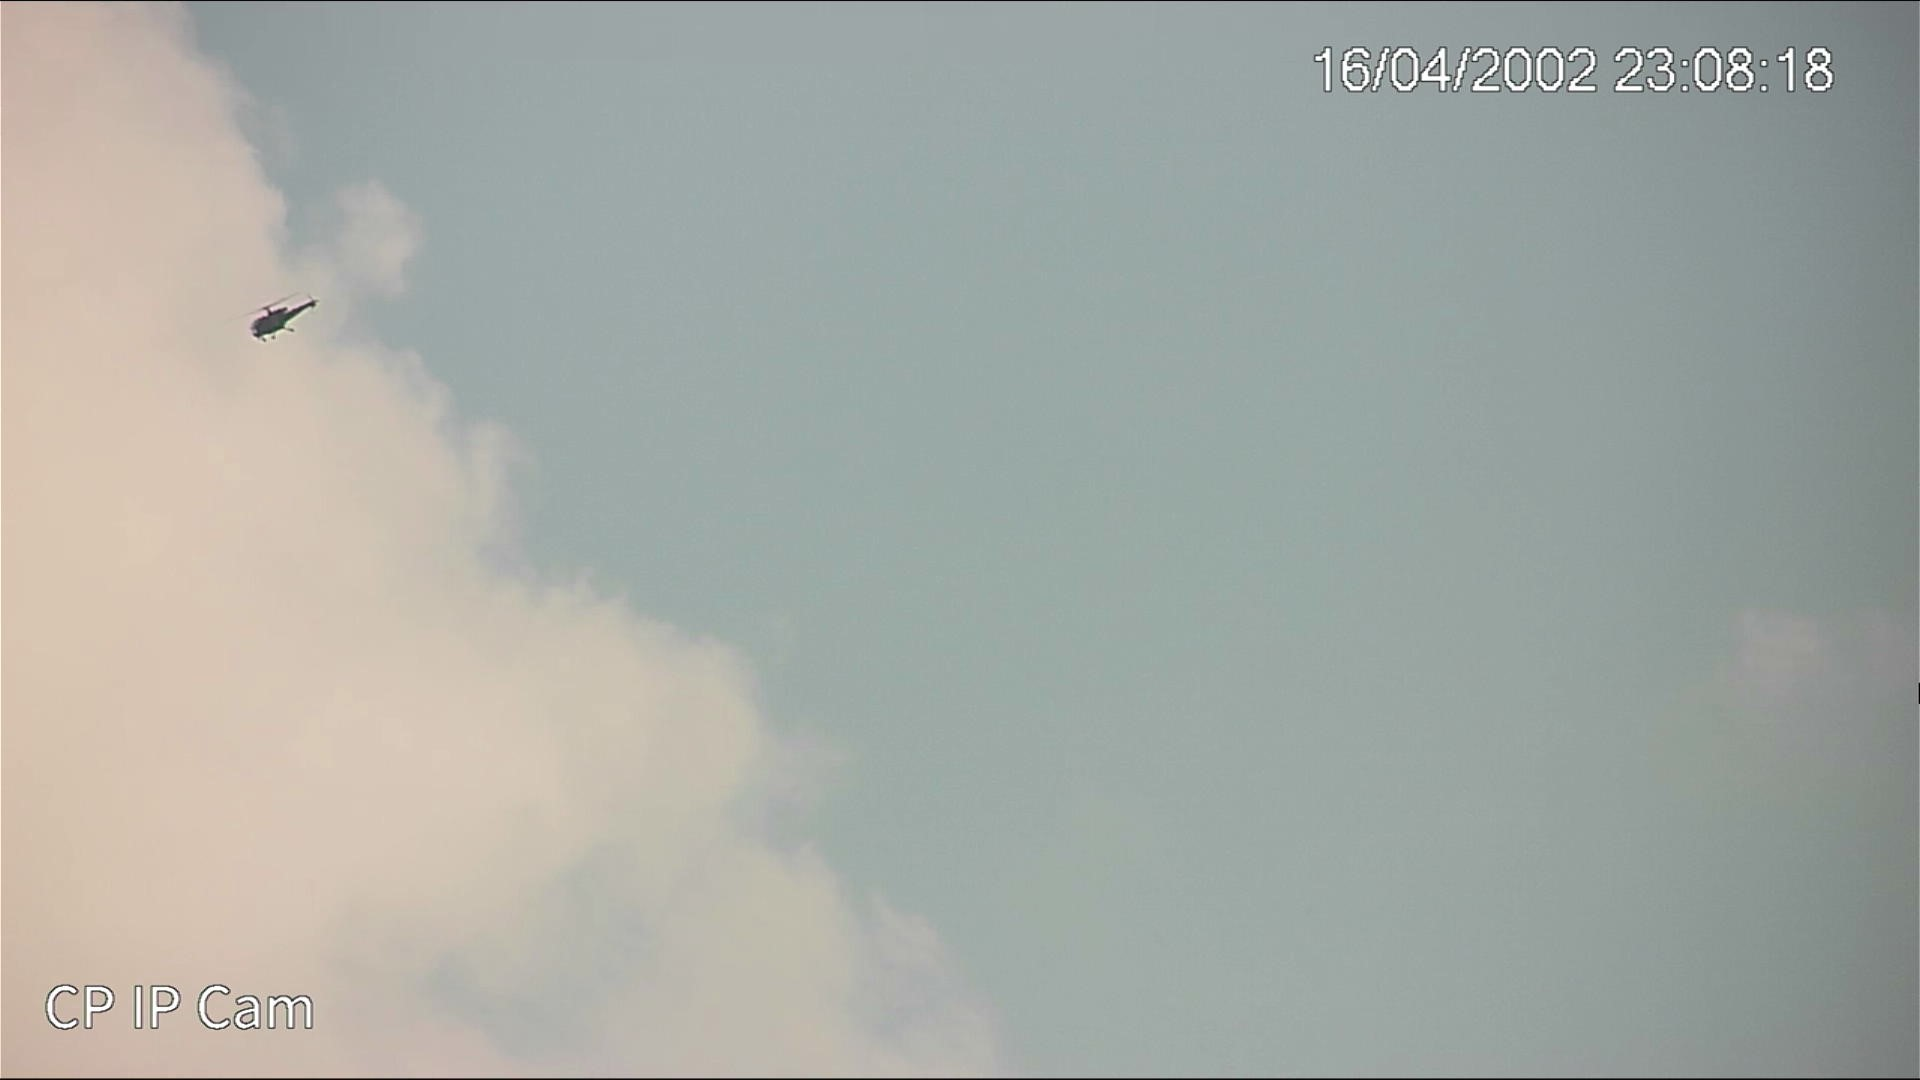SU_30: (245, 295, 320, 345)
